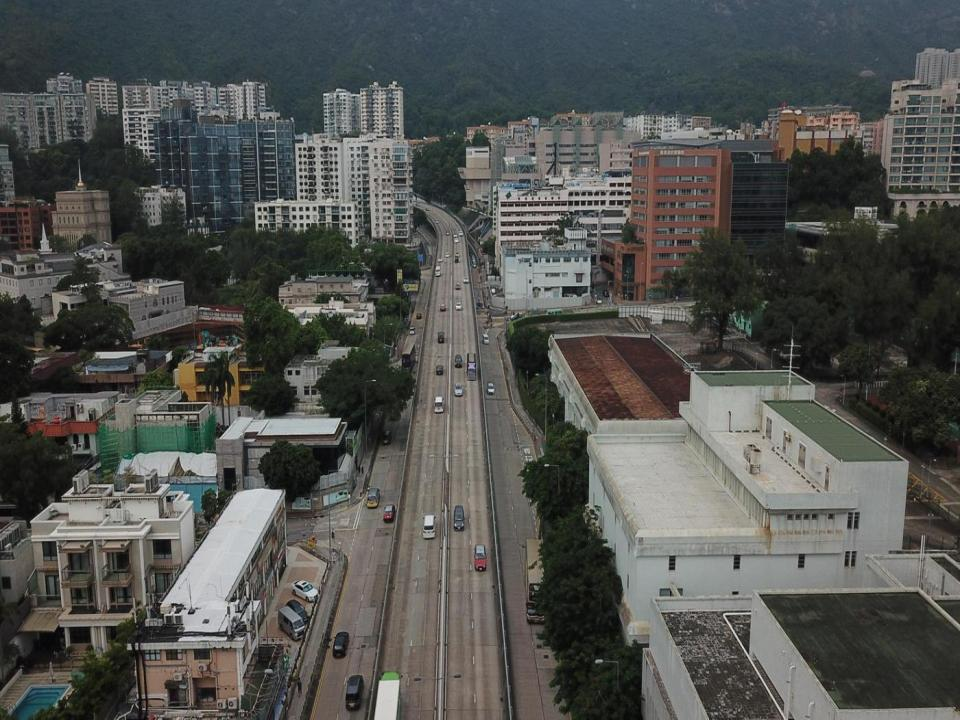bus: (525, 537, 549, 624), (374, 673, 402, 719), (400, 344, 415, 373), (544, 308, 562, 319), (435, 265, 441, 276)
car: (291, 578, 319, 602), (286, 599, 310, 624), (332, 631, 349, 656), (474, 544, 487, 570), (384, 504, 394, 522), (454, 382, 463, 395), (487, 383, 494, 395), (436, 364, 444, 374), (456, 302, 462, 310), (602, 289, 608, 297), (608, 278, 616, 284), (440, 304, 446, 311), (491, 287, 496, 295), (596, 298, 602, 304), (416, 312, 421, 319), (456, 283, 460, 291), (590, 282, 595, 287), (454, 237, 458, 243), (464, 277, 468, 283), (425, 207, 430, 211), (446, 230, 450, 235), (437, 257, 442, 261), (456, 252, 460, 257), (588, 286, 592, 291), (459, 231, 462, 237), (454, 232, 457, 238), (446, 252, 449, 257), (415, 203, 420, 205)
truck: (466, 353, 477, 380)
van: (277, 606, 305, 640), (345, 675, 363, 709), (423, 516, 436, 538), (454, 504, 465, 530), (367, 488, 380, 506), (434, 396, 444, 413), (382, 430, 392, 444), (454, 354, 462, 368), (510, 312, 524, 320), (438, 330, 445, 344), (482, 332, 490, 344), (410, 326, 417, 334), (454, 255, 458, 262), (435, 218, 437, 223)
